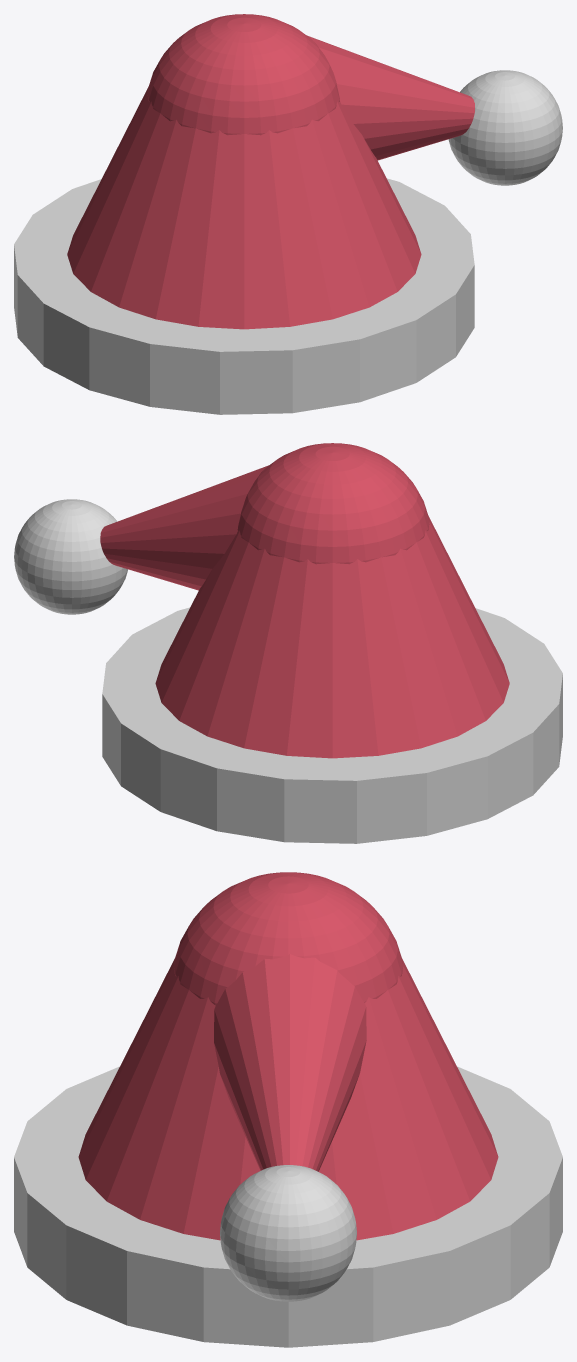
The model's file is thecone.glb.
3 renders of one model, top to bottom at view 1: azimuth 30°, elevation 25°; view 2: azimuth 150°, elevation 25°; view 3: azimuth 270°, elevation 25°, orthographic. The views are drawn at different scales.
Parts seen in each view (by area): view 1: Mesh_Mesh_head_geo.001_lambert2SG.001; view 2: Mesh_Mesh_head_geo.001_lambert2SG.001; view 3: Mesh_Mesh_head_geo.001_lambert2SG.001.
Boxes of the visible parts, <box> form: Mesh_Mesh_head_geo.001_lambert2SG.001: <box>14,14,562,414</box>; Mesh_Mesh_head_geo.001_lambert2SG.001: <box>14,443,562,843</box>; Mesh_Mesh_head_geo.001_lambert2SG.001: <box>14,872,562,1347</box>.
Bounding box in the file's own units: 25.5 × 14 × 20.
